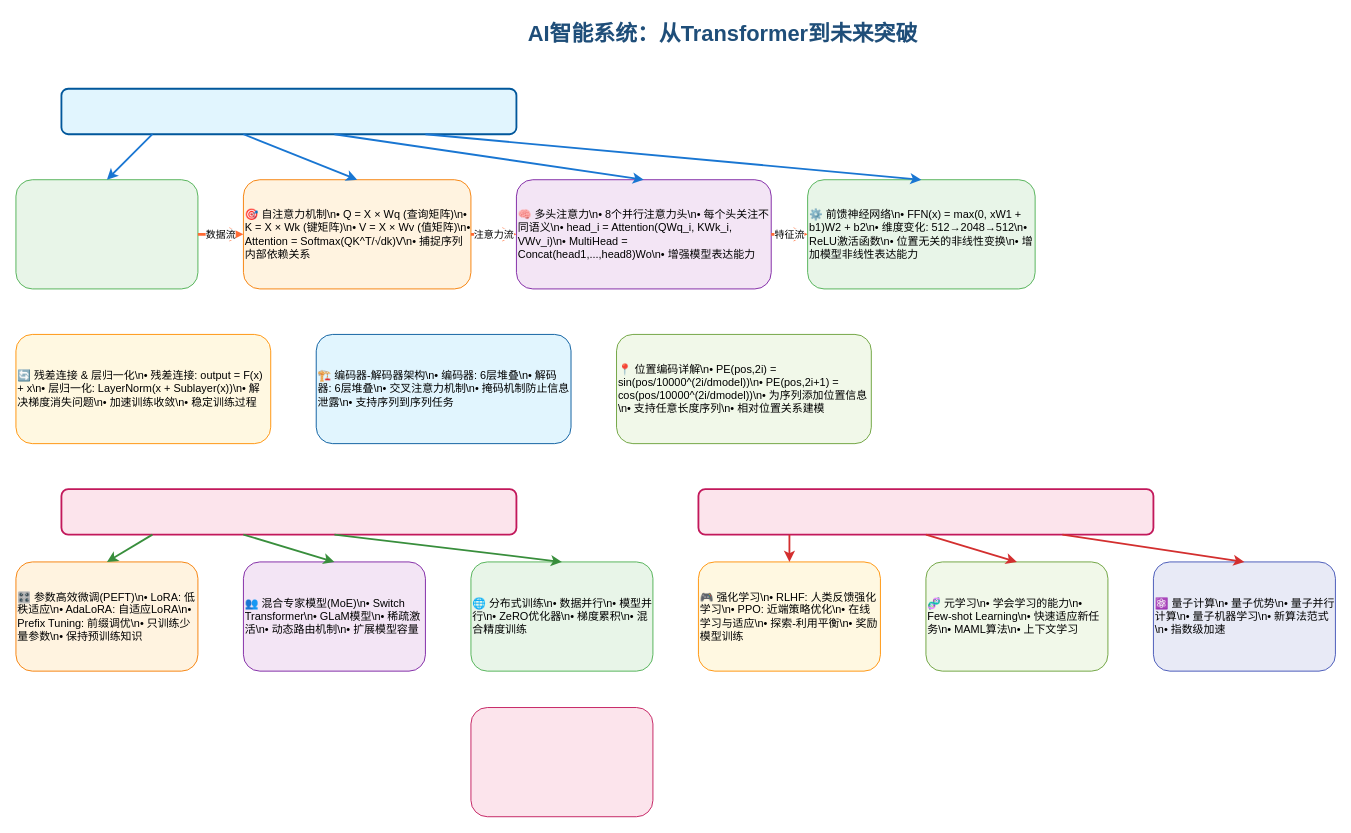
The diagram is 1351 pixels wide and 833 high, and some of its shapes have lost their labels. The shapes that lost their labels are listed below. From the top down, each one's centre as x and y in pixels, then its label:
At pixel 288 111: "🔍 Transformer核心架构".
At pixel 106 234: "📝 输入层\n• 分词(Tokenization)\n• 词嵌入(Word Embedding)\n• 位置编码(Positional Encoding)".
At pixel 288 511: "🚀 优化技术".
At pixel 925 511: "🚀 AI突破方向".
At pixel 561 762: "🔮 未来展望\n• AGI通用人工智能\n• 多模态融合\n• 神经符号结合\n• 可解释AI\n• 持续学习".
